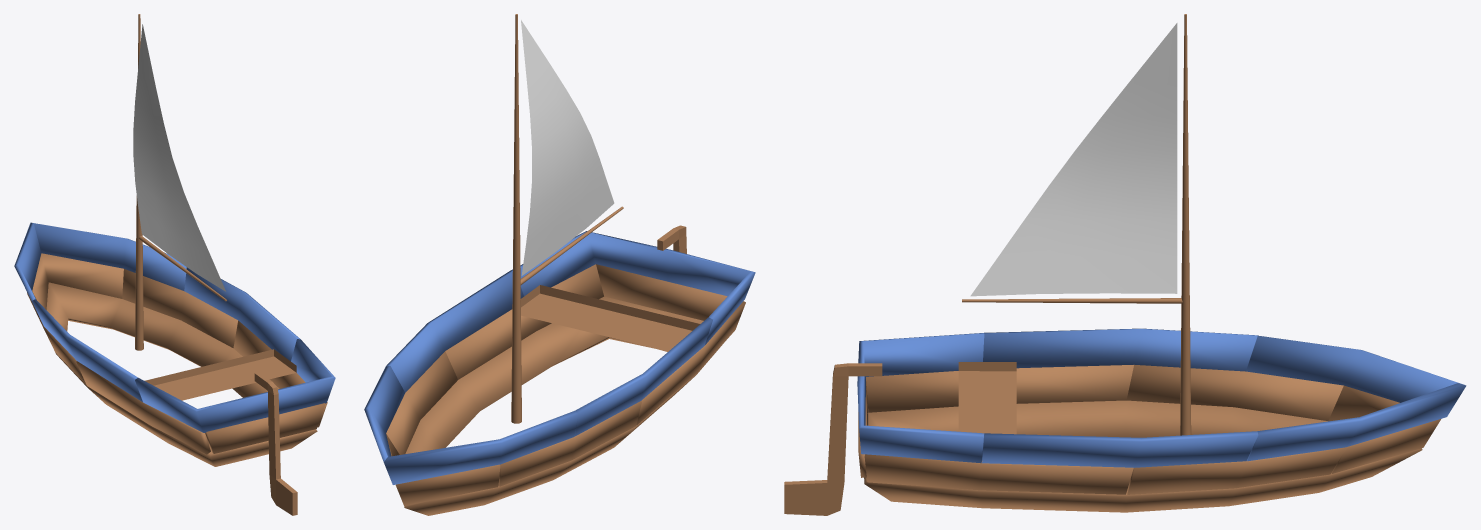
File: boat_lowpoly2.glb
3 views of the same model, side by side, from view 1: azimuth 30°, elevation 25°; view 2: azimuth 150°, elevation 25°; view 3: azimuth 270°, elevation 25° (orthographic). The views are drawn at different scales.
Parts seen in each view (by area): view 1: Boat, Boat.003, Boat.002, Segel, Bench, Rudder, Mast; view 2: Boat, Boat.003, Segel, Boat.002, Bench, Mast, Rudder; view 3: Boat, Boat.003, Segel, Boat.002, Rudder, Mast, Bench.
Part boxes in pixels (<box>): Boat: <box>14,222,335,432</box>; Boat.003: <box>27,253,327,454</box>; Boat.002: <box>46,282,317,466</box>; Segel: <box>133,24,225,291</box>; Bench: <box>144,349,296,400</box>; Rudder: <box>254,372,297,515</box>; Mast: <box>135,14,226,350</box>; Boat: <box>364,231,755,484</box>; Boat.003: <box>386,264,745,505</box>; Segel: <box>521,20,614,275</box>; Boat.002: <box>404,296,721,515</box>; Bench: <box>520,285,699,351</box>; Mast: <box>511,14,623,423</box>; Rudder: <box>657,225,686,253</box>; Boat: <box>857,328,1466,467</box>; Boat.003: <box>858,365,1440,494</box>; Segel: <box>970,23,1177,296</box>; Boat.002: <box>864,400,1422,512</box>; Rudder: <box>784,363,882,515</box>; Mast: <box>962,14,1191,435</box>; Bench: <box>958,362,1016,434</box>.
Size of the model in its own units: 2.82 by 5.81 by 7.18.
